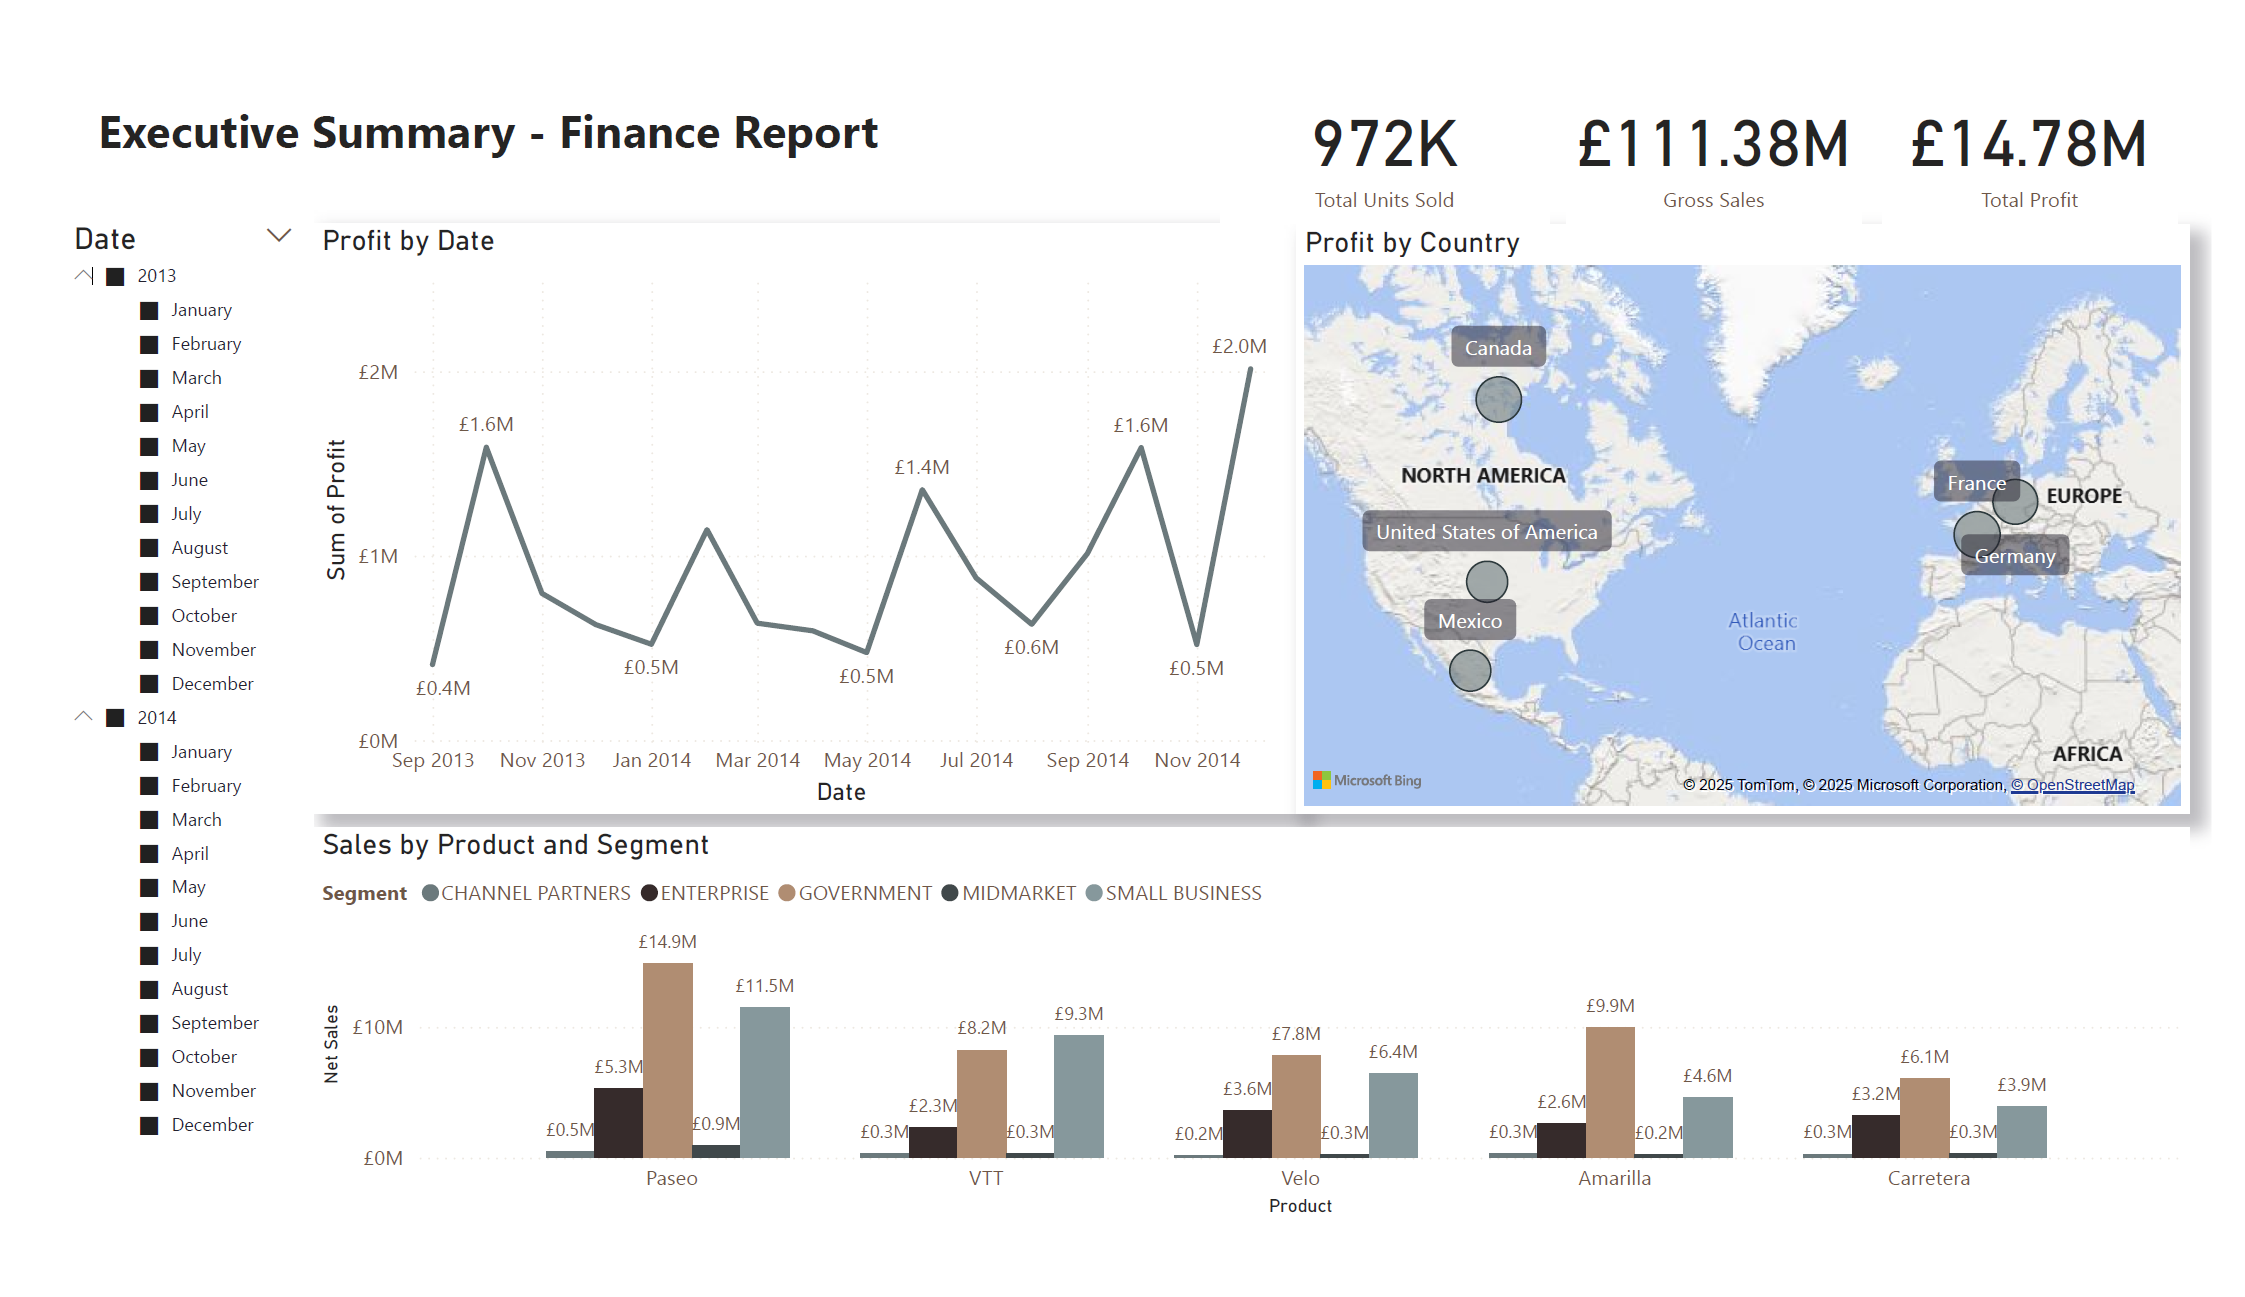

The page's visual inventory and layout, read from the dashboard file:
{"tool":"powerbi","page":{"name":"Page 1","canvas":[1280,720],"ordinal":0},"visuals":[{"type":"lineChart","title":"Profit by Date","fields":{"Category":["Calendar.Date.Variation.Date Hierarchy.Year"],"Y":["Sum(financials.Profit)"]},"box":[162.3,107.9,579.1,347.9],"z":0},{"type":"textbox","box":[30.1,30.1,488.7,49.6],"z":1000},{"type":"map","title":"Profit by Country","fields":{"Category":["financials.Region Hierarchy.Country"],"Size":["Sum(financials.Profit)"]},"box":[741.4,108.8,525.7,346.9],"z":2000},{"type":"clusteredColumnChart","title":"Sales by Product and Segment","fields":{"Y":["Sum(financials. Sales)"],"Category":["financials.Product"],"Series":["financials.Segment"]},"box":[162.3,464.5,1104.8,233.2],"z":3000},{"type":"slicer","fields":{"Values":["Calendar.Date.Variation.Date Hierarchy.Year","Calendar.Date.Variation.Date Hierarchy.Month"]},"box":[8,101,154,579],"z":4000},{"type":"card","fields":{"Values":["financials.Total Units Sold"]},"box":[695.7,22.3,194.3,85.5],"z":5000},{"type":"card","fields":{"Values":["Sum(financials.Gross Sales)"]},"box":[899.8,22.3,173.9,85.5],"z":6000},{"type":"card","fields":{"Values":["financials.Total Profit"]},"box":[1086.3,22.3,173.9,85.5],"z":7000}]}

Visuals, with their boxes in screenshot pixels (x1, y1, x2, y2), scaled from the page's 1280x720 canvas onto the 2245x1297 screenshot:
"Profit by Date" lineChart: detection(285, 194, 1300, 821)
textbox: detection(53, 54, 910, 144)
"Profit by Country" map: detection(1300, 196, 2222, 821)
"Sales by Product and Segment" clusteredColumnChart: detection(285, 837, 2222, 1257)
slicer - Calendar.Date.Variation.Date Hierarchy.Year x Calendar.Date.Variation.Date Hierarchy.Month: detection(14, 182, 284, 1225)
card - financials.Total Units Sold: detection(1220, 40, 1561, 194)
card - Sum(financials.Gross Sales): detection(1578, 40, 1883, 194)
card - financials.Total Profit: detection(1905, 40, 2210, 194)
